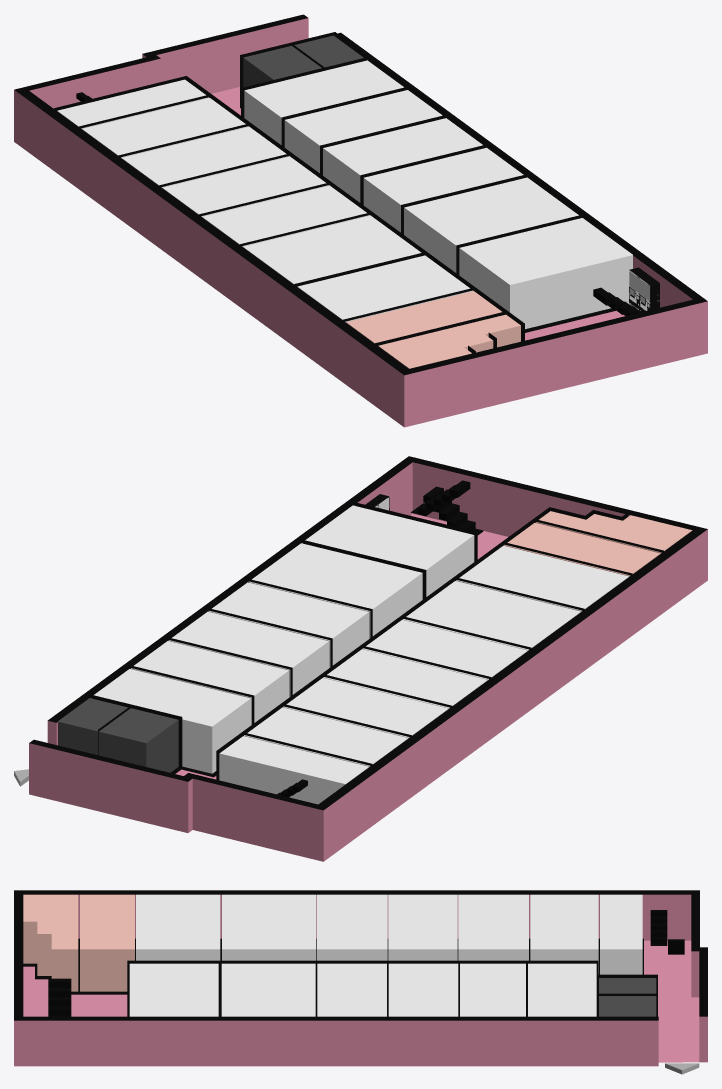
3 renders of one model, top to bottom at view 1: azimuth 30°, elevation 25°; view 2: azimuth 150°, elevation 25°; view 3: azimuth 270°, elevation 25°, orthographic. The views are drawn at different scales.
Parts seen in each view (by area): view 1: object, object_line.009, room_3_2_11, room_3_2_12, room_3_2_2, room_3_2_7, room_3_2_8, object_line.003, room_3_2_5, room_3_2_1, room_3_2_6, room_3_2_9 (+22 smaller); view 2: object, room_3_2_7, room_3_2_11, room_3_2_12, room_3_2_14, room_3_2_1, room_3_2_2, object_line.005, エレベーター_3_2_1, object_line.012, object_line.011, room_3_2_8 (+22 smaller); view 3: object, room_3_2_2, room_3_2_1, トイレ_3_2_2, room_3_2_11, room_3_2_12, room_3_2_3, room_3_2_5, room_3_2_4, room_3_2_6, トイレ_3_2_1, room_3_2_9 (+23 smaller).
Boxes of the visible parts, box(x1,y1,x2,y2) form: object: box(14, 14, 707, 427); object_line.009: box(456, 214, 636, 332); room_3_2_11: box(404, 177, 578, 272); room_3_2_12: box(459, 218, 632, 311); room_3_2_2: box(243, 215, 421, 283); room_3_2_7: box(244, 60, 403, 144); room_3_2_8: box(284, 90, 442, 173); object_line.003: box(294, 251, 476, 322); room_3_2_5: box(121, 126, 286, 185); room_3_2_1: box(297, 255, 467, 319); room_3_2_6: box(82, 98, 245, 155); room_3_2_9: box(323, 118, 482, 202); object: box(29, 456, 707, 861); room_3_2_7: box(95, 669, 249, 773); room_3_2_11: box(248, 543, 421, 638); room_3_2_12: box(305, 506, 473, 583); room_3_2_14: box(219, 736, 368, 804); room_3_2_1: box(456, 546, 628, 611); room_3_2_2: box(402, 581, 580, 650); object_line.005: box(361, 616, 531, 678); エレベーター_3_2_1: box(57, 708, 177, 772); object_line.012: box(167, 607, 332, 668); object_line.011: box(207, 578, 372, 639); room_3_2_8: box(131, 646, 288, 725); object: box(14, 890, 707, 1066); room_3_2_2: box(223, 894, 315, 960); room_3_2_1: box(137, 894, 220, 960); トイレ_3_2_2: box(81, 894, 134, 991); room_3_2_11: box(222, 963, 315, 1016); room_3_2_12: box(130, 963, 218, 1016); room_3_2_3: box(317, 894, 387, 960); room_3_2_5: box(459, 894, 528, 960); room_3_2_4: box(389, 894, 457, 960); room_3_2_6: box(531, 894, 598, 974); トイレ_3_2_1: box(24, 894, 78, 991); room_3_2_9: box(389, 963, 458, 1016).
Size of the model in its own units: 1.21 by 0.233 by 2.55.
Materials: 34 (7 with a texture image).
